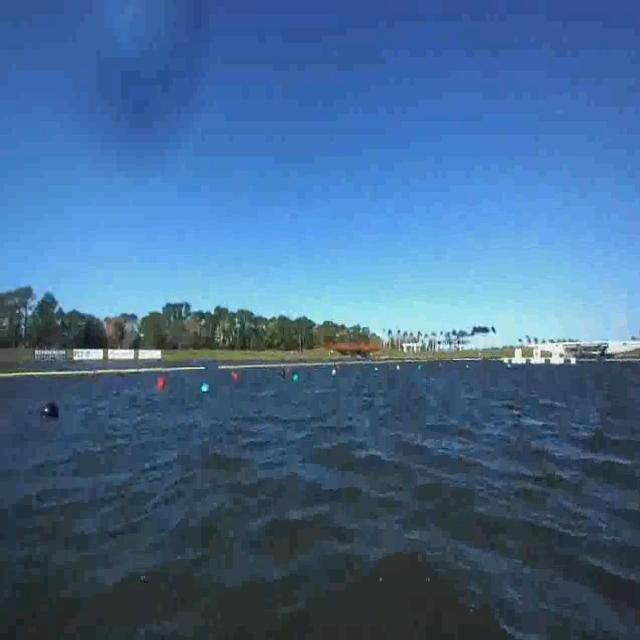black-buoy: (40, 402, 60, 421)
green-buoy: (199, 380, 213, 397), (292, 372, 299, 383)
red-buoy: (154, 374, 166, 392)
